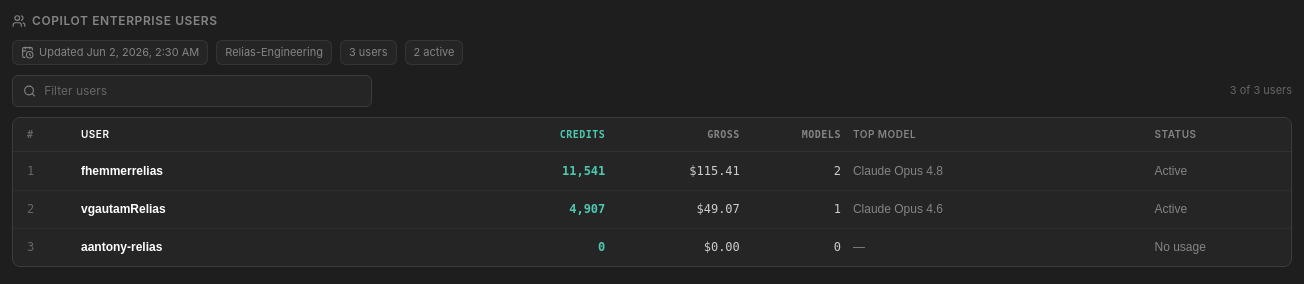
Scenario: TopUsersSection › filters users by login text
In the search field named "Filter Copilot Enterprise users": (203, 90) [44,82,361,100], type "vgautam"
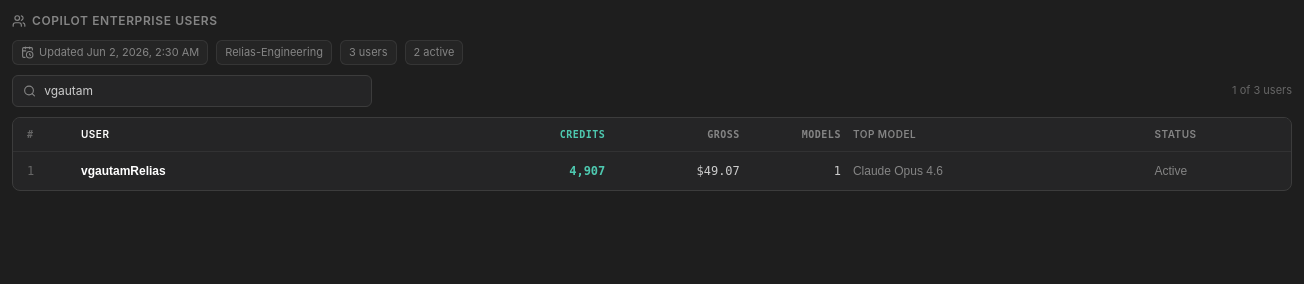
Expected: the text "vgautamRelias" is shown, [81,164,166,178]
Expected: the button "fhemmerrelias" is gone
